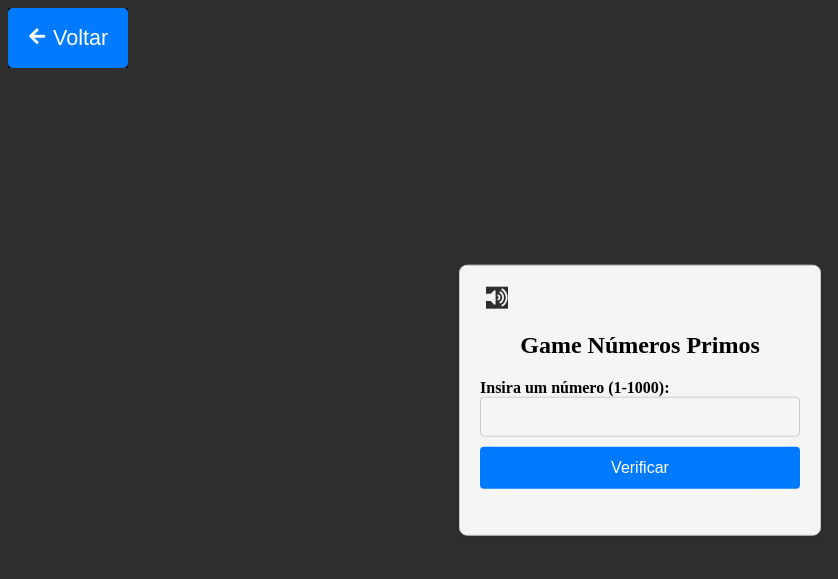
PrimeNumber Page › should show the message: O número não é primo when entering an non prime number in the input
In the number field labelled "Insira um número (1-1000):": (640, 416) [480,396,800,436], type "14"
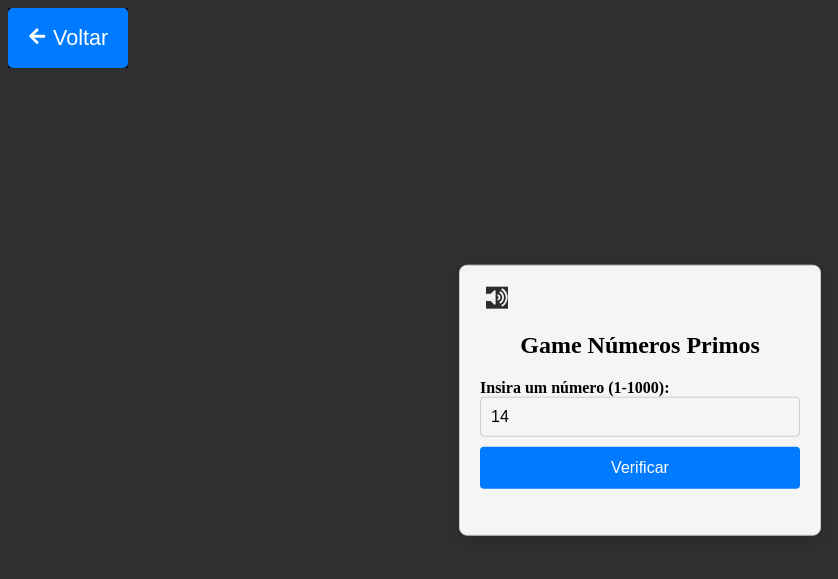
Click the button with test id "send-form": (640, 467) [480,446,800,488]
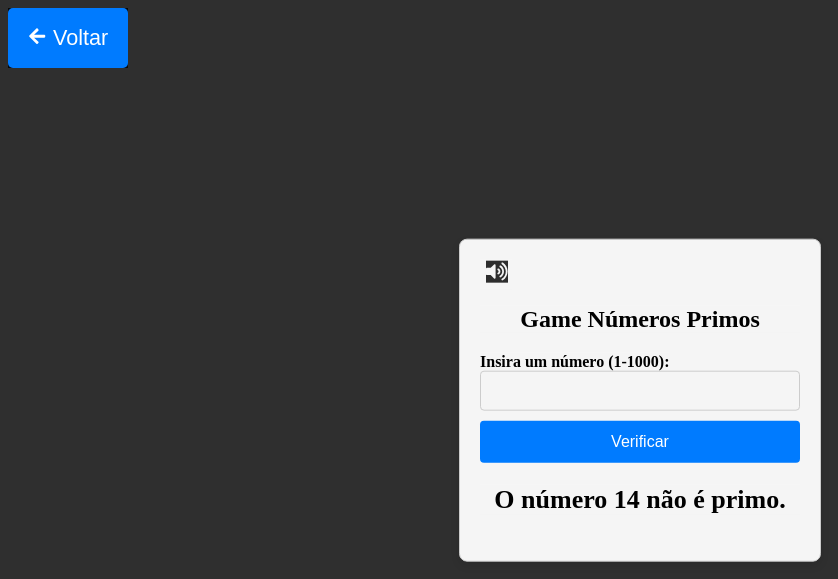
Now the text with test id "result-text" reads "O número 14 não é primo.", box [494,484,786,513]
